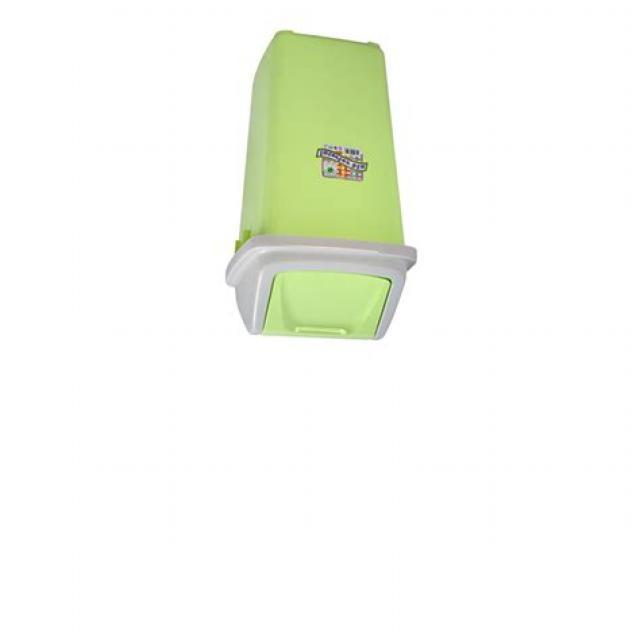garbage container: (212, 29, 452, 362)
